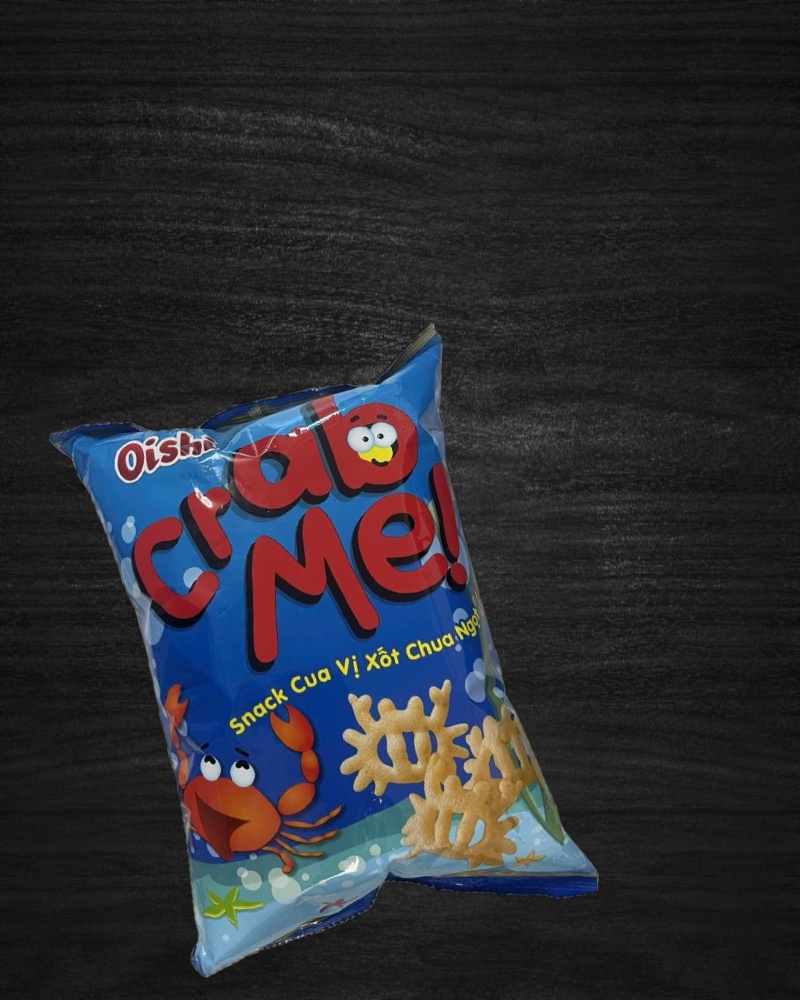Snack chay: (46, 318, 604, 1000)
